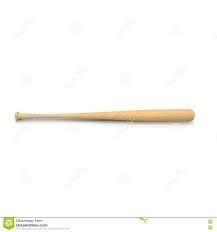bat: (14, 107, 196, 125)
